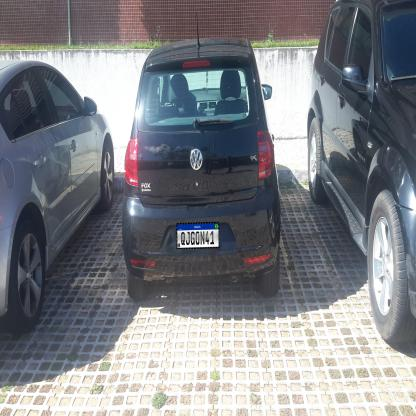PlacaM: (176, 222, 219, 249)
